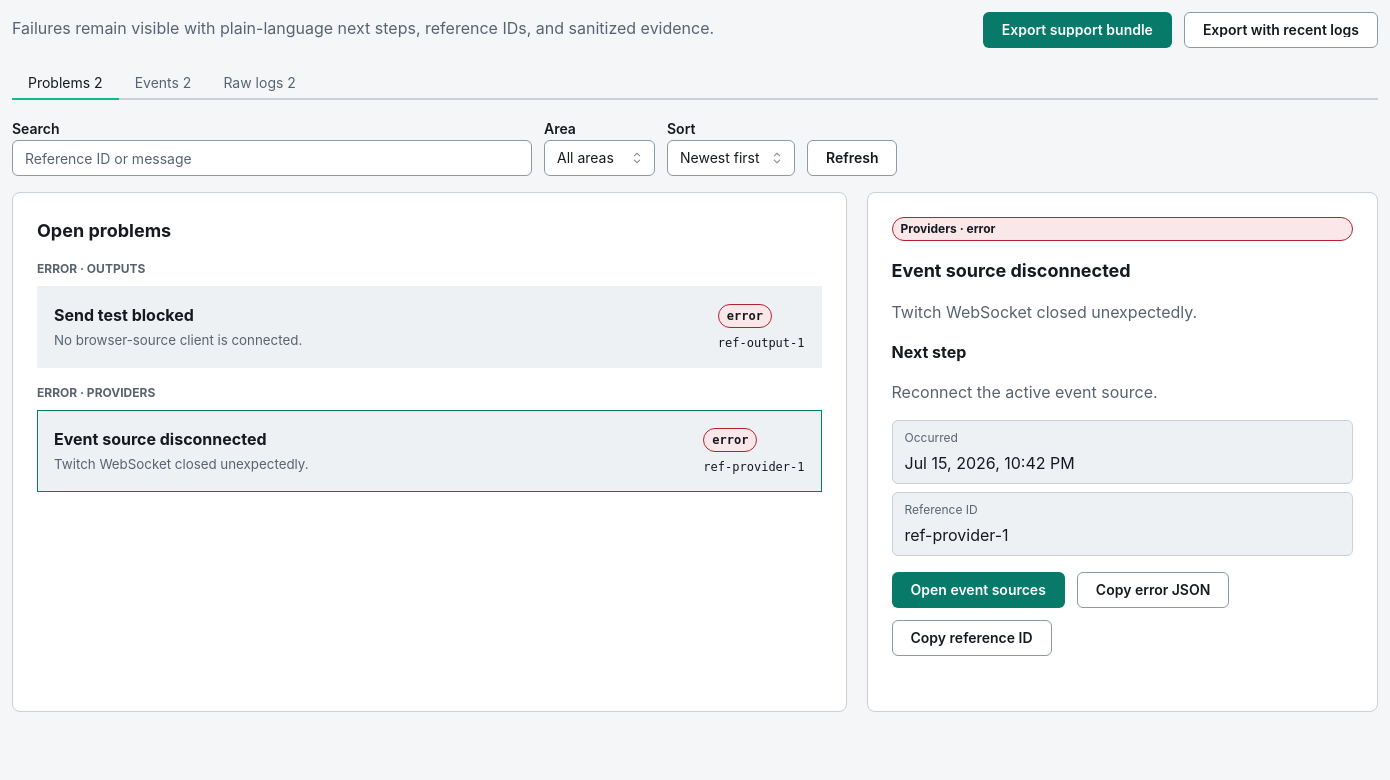
Scenario: DiagnosticsPanel › shows a human-readable failure when error JSON cannot be copied
Check: the heading "Open problems" is shown, box 37,217 -> 171,244
Click the button "Copy error JSON": (1153, 590) 1077,572 -> 1229,608
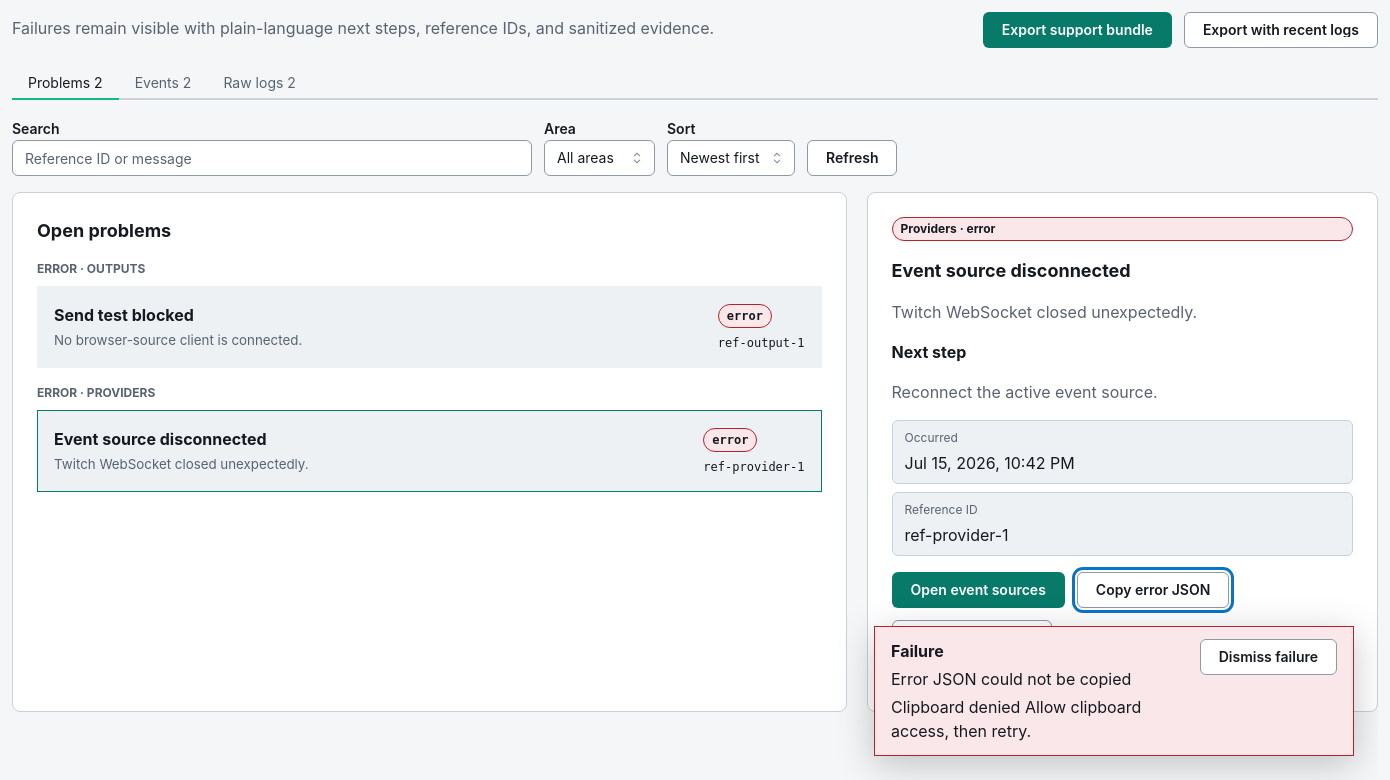
Check: the text "Error JSON could not be copied" is shown, box 891,669 -> 1131,689
Check: the message shows "Allow clipboard access, then retry", box 891,697 -> 1141,741
